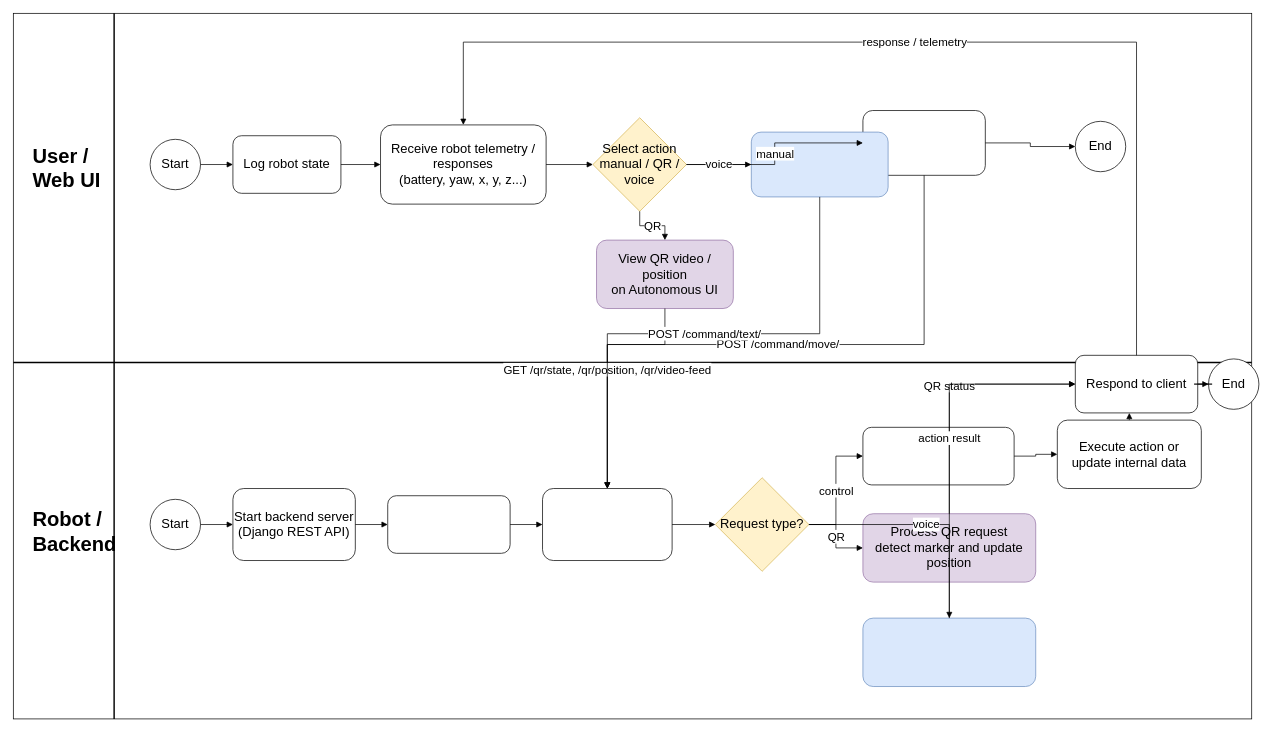
Image size: 1272x732. Some labels were removed from this diagram. Here are the shapes that lost their labels. From the top down, the box of each, then its label:
(862, 110, 985, 175): Send movement command to robot
(751, 131, 888, 197): Speak command or enter text command
(862, 427, 1014, 485): Process control request
(387, 495, 510, 553): Initialize REST endpoints
(542, 488, 672, 561): Listen for incoming client requests
(862, 617, 1036, 687): Process voice command choose and execute robot action
